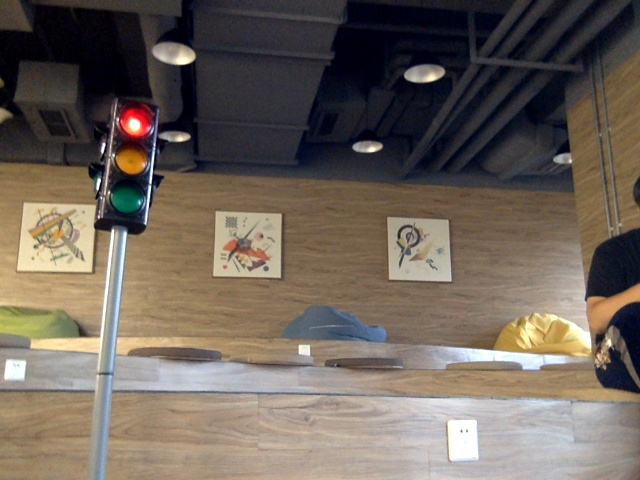red: (110, 105, 147, 220)
